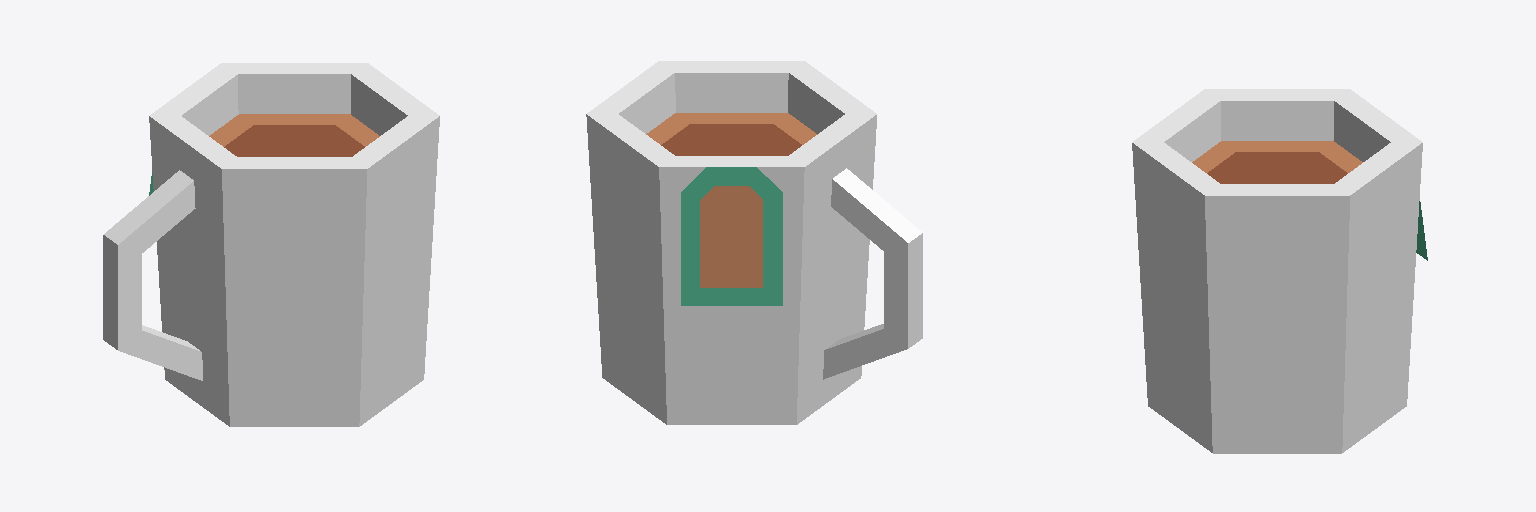
The model's file is cupThea.obj.
3 views of the same model, side by side, from view 1: azimuth 30°, elevation 25°; view 2: azimuth 150°, elevation 25°; view 3: azimuth 270°, elevation 25° (orthographic).
Parts seen in each view (by area): view 1: cupThea; view 2: cupThea, label; view 3: cupThea.
Part boxes in pixels (bbox=[...]): cupThea: bbox=[103, 63, 439, 426]; cupThea: bbox=[586, 61, 922, 424]; label: bbox=[681, 167, 782, 305]; cupThea: bbox=[1132, 89, 1422, 453].
Bounding box in the file's own units: 0.2325 × 0.2 × 0.2034.